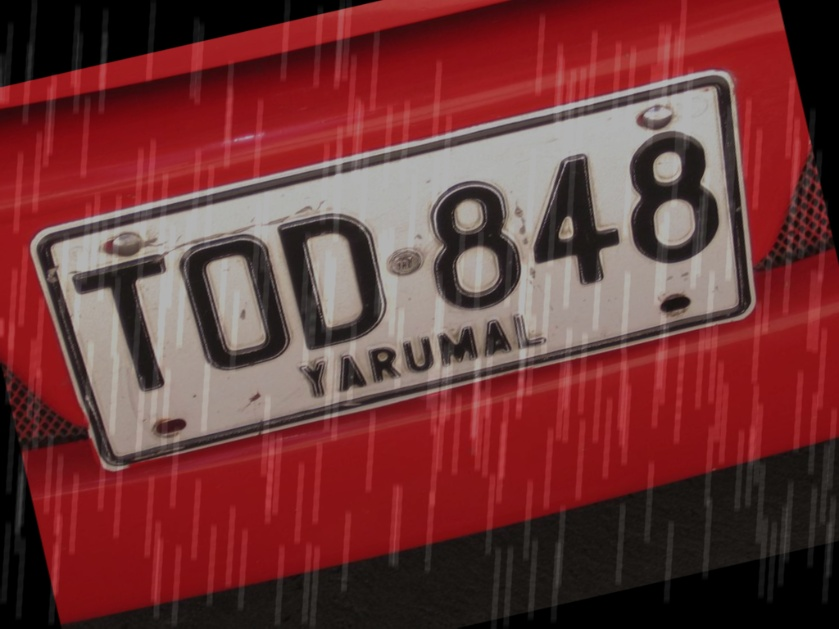placas: (20, 63, 789, 482)
